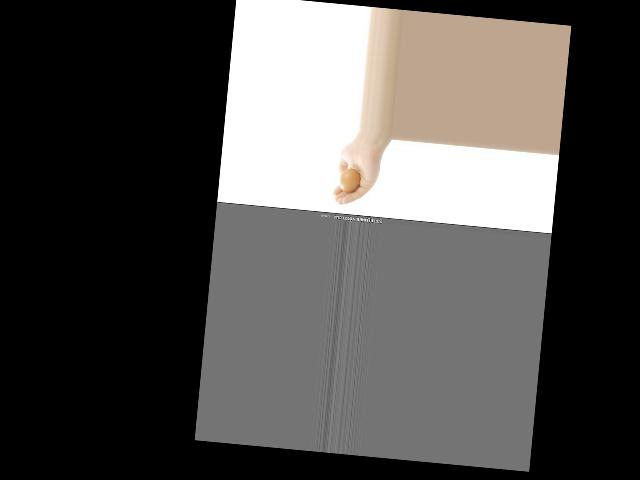egg: (338, 167, 360, 195)
